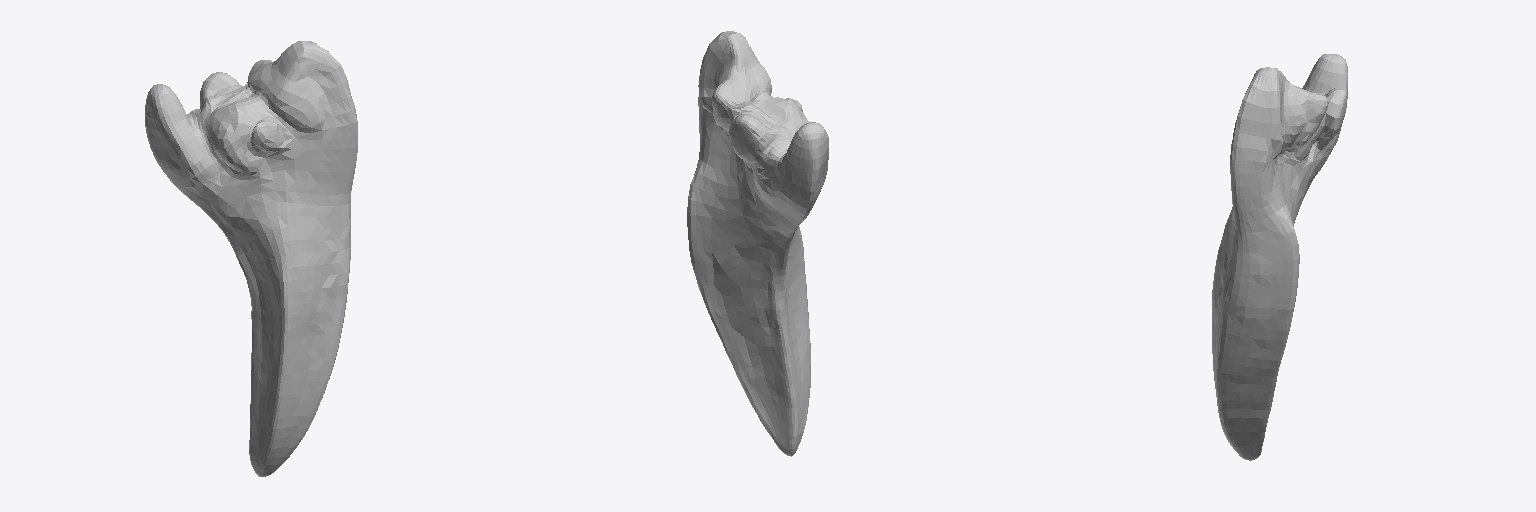
The model's file is fang.obj.
3 views of the same model, side by side, from view 1: azimuth 30°, elevation 25°; view 2: azimuth 150°, elevation 25°; view 3: azimuth 270°, elevation 25° (orthographic).
Visible parts, largest first — view 1: mesh; view 2: mesh; view 3: mesh.
Part boxes in pixels (x1,y1,x2,y2): mesh: (145,41,357,476); mesh: (687,31,828,456); mesh: (1212,54,1347,460).
Size of the model in its own units: 0.4051 by 0.9992 by 0.2976.